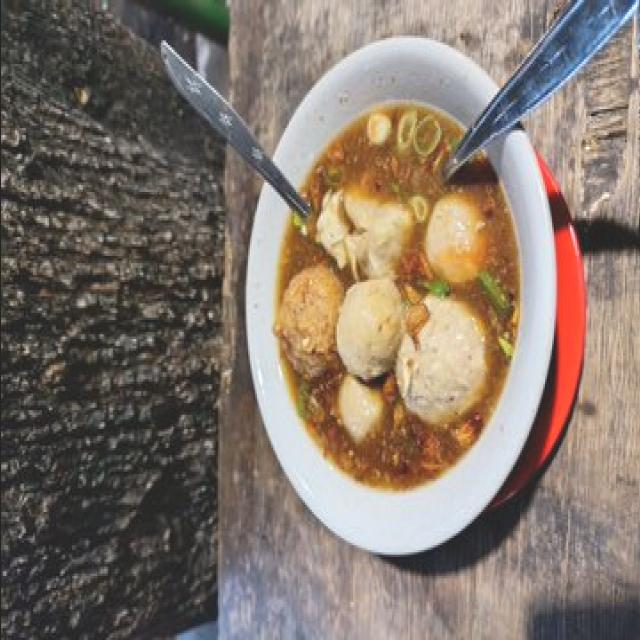bakso: (270, 97, 524, 495)
